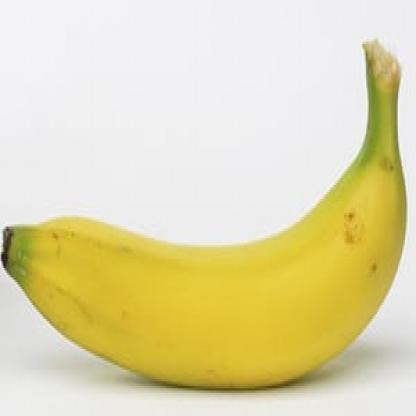banana: (0, 136, 406, 404)
